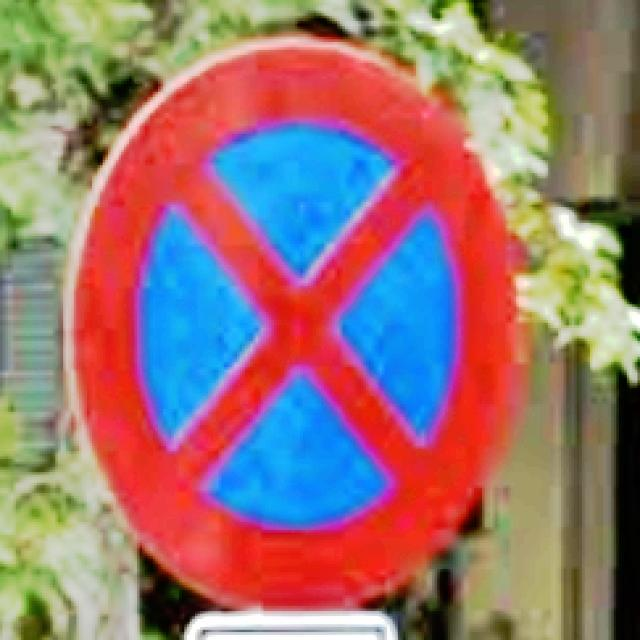nopark: (63, 37, 524, 614)
